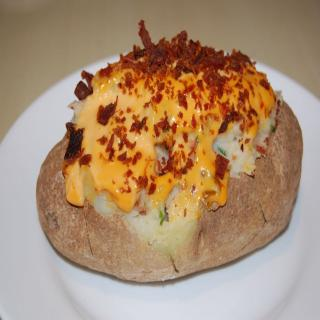Potato: (35, 101, 304, 284)
